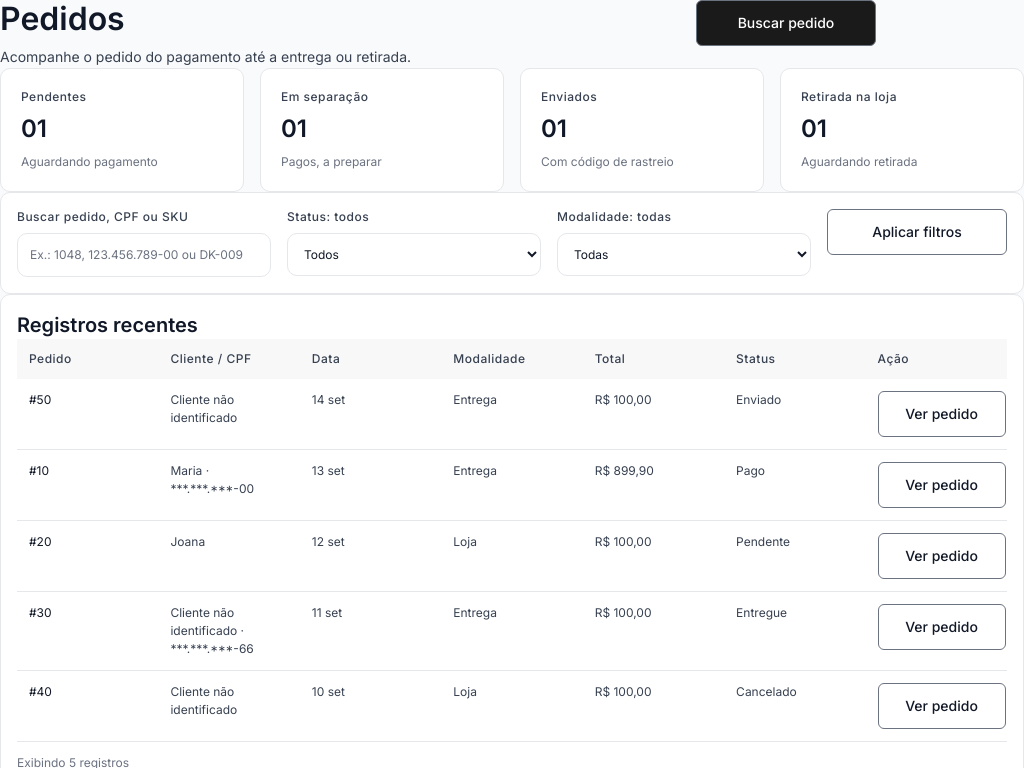
Scenario: Orders › abre o pedido, salva o status e mostra a confirmação
Expected: the text "#10" is shown, [17, 450, 158, 520]
Click the button "Ver pedido" in the row of "#10".
click(942, 485)  # box [878, 462, 1006, 508]
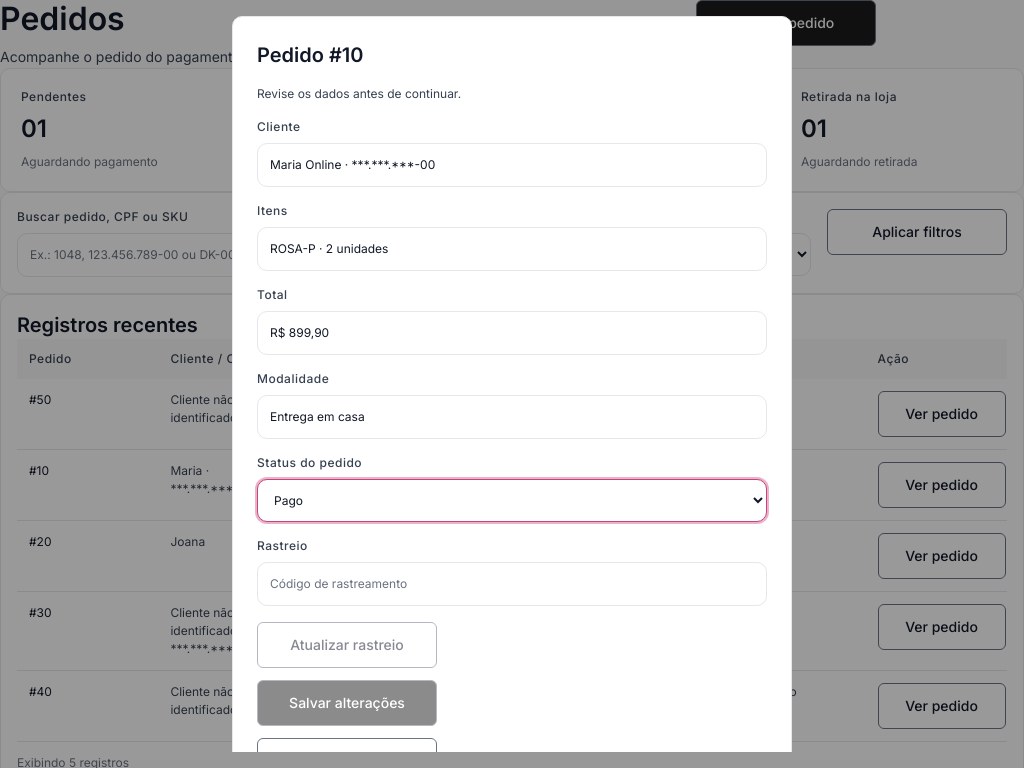
Expected: the heading "Pedido #10" is shown, [257, 43, 364, 67]
Expected: the text "Maria Online · ***.***.***-00" is shown, [257, 143, 767, 187]
Expected: the text "ROSA-P · 2 unidades" is shown, [270, 241, 388, 256]
Select "Entregue" in the dropdown labelled "Status do pedido" at (512, 500), box [257, 479, 767, 522]
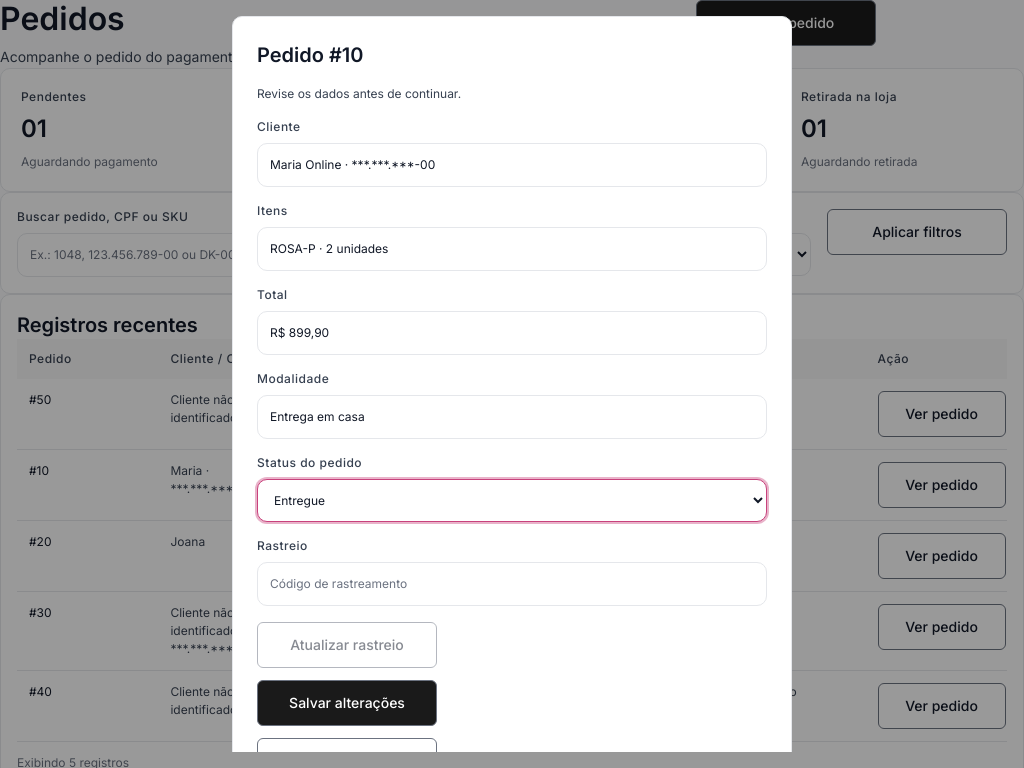
Click the button "Salvar alterações".
click(347, 703)  # box [257, 680, 437, 726]
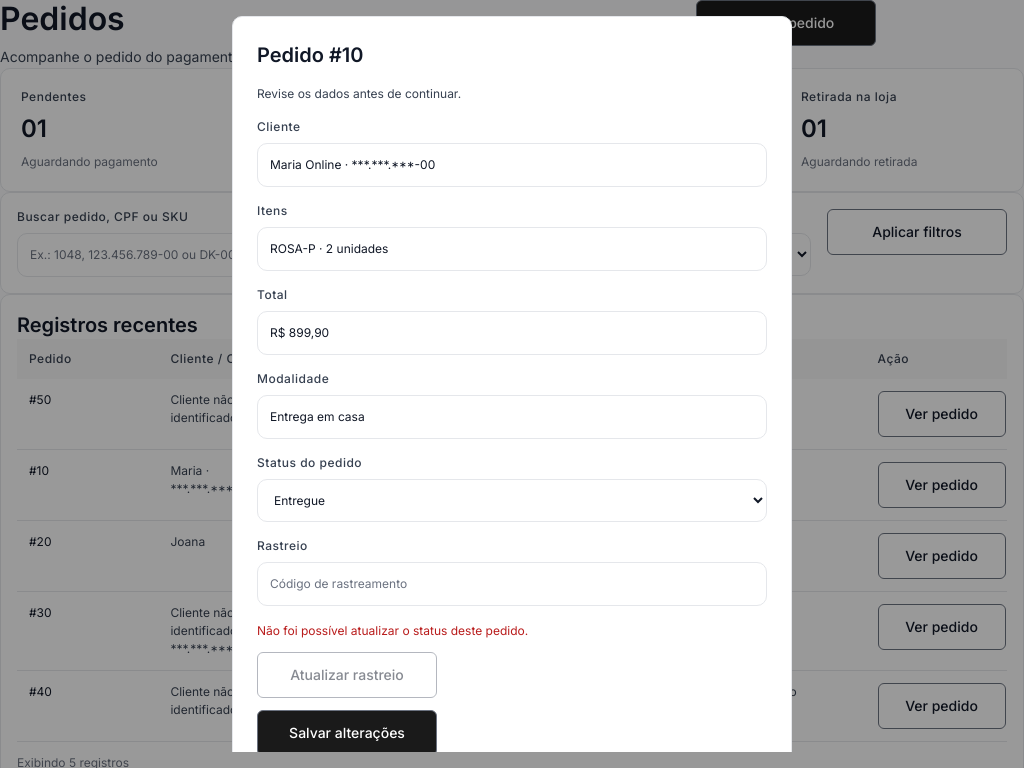
Expected: the message reads "Não foi possível atualizar o status deste pedido.", [257, 623, 528, 638]
Click the button "Salvar alterações".
click(347, 733)  # box [257, 710, 437, 756]
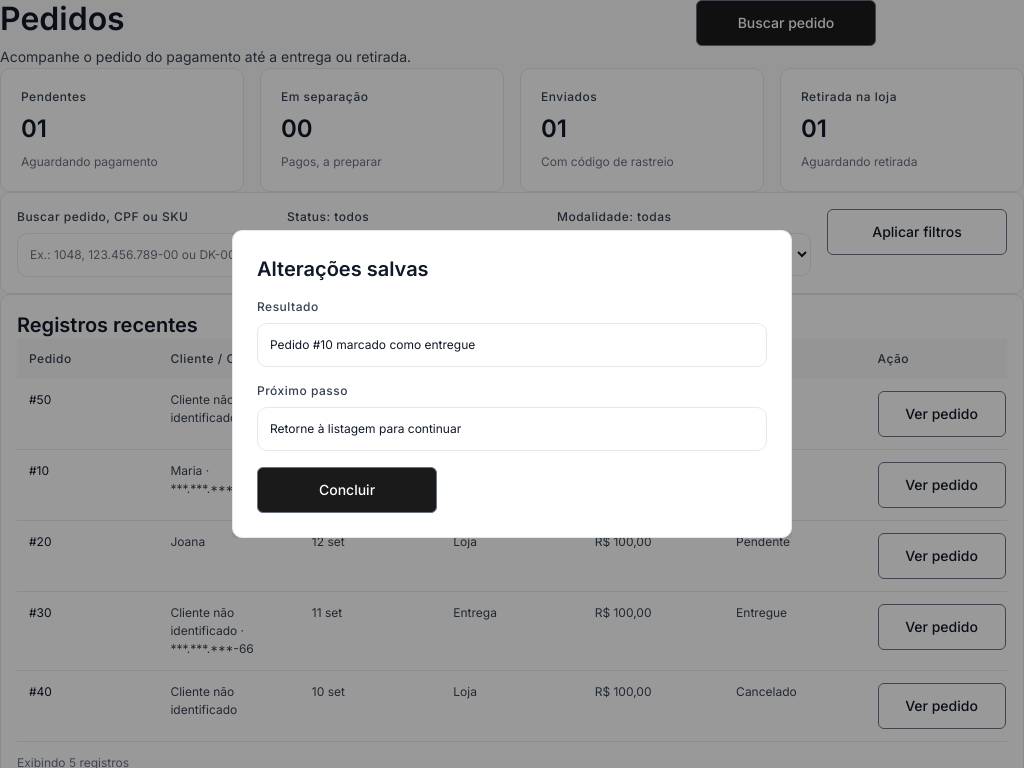
Expected: the heading "Alterações salvas" is shown, [257, 257, 429, 281]
Expected: the text "Pedido #10 marcado como entregue" is shown, [257, 323, 767, 367]
Click the button "Concluir".
click(347, 490)  # box [257, 467, 437, 513]
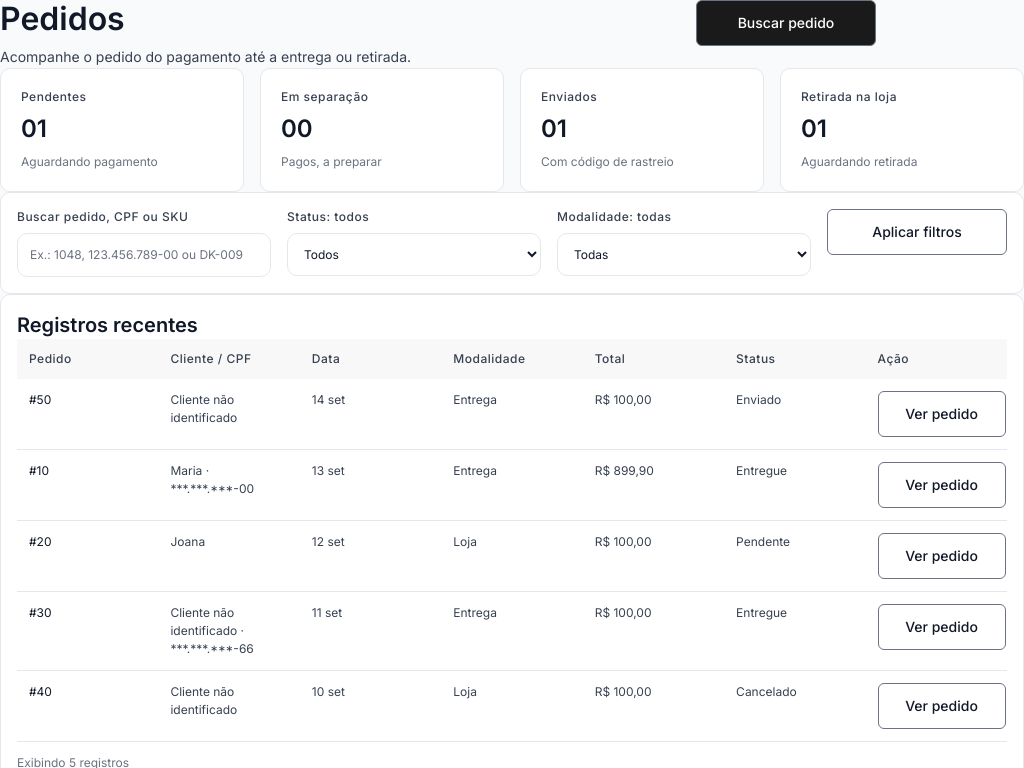
Expected: the text "Entregue" in the row of "#10" is shown, [736, 463, 787, 478]
Expected: the dialog is gone
